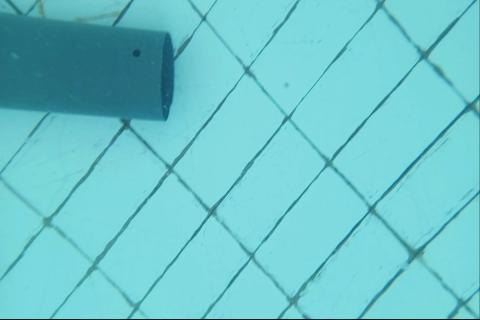kebocoran: (131, 47, 141, 58)
